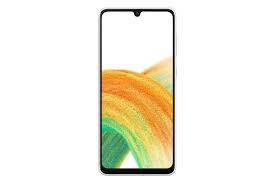phone: (93, 5, 180, 176)
